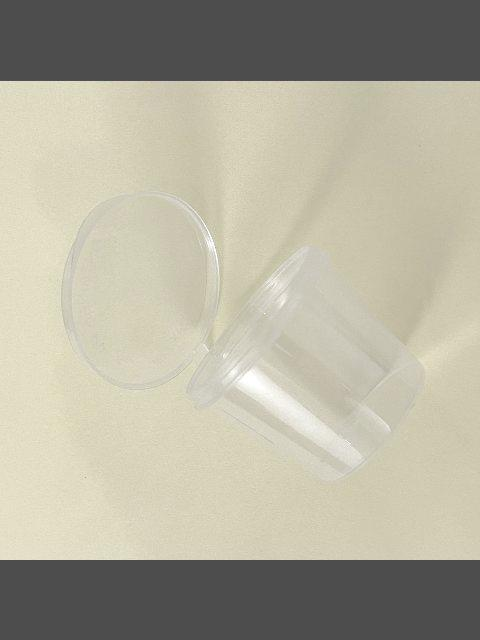plasticcontainer: (58, 188, 428, 482)
